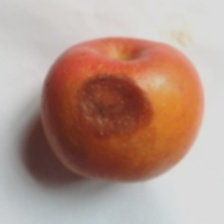apple: (24, 12, 188, 181)
